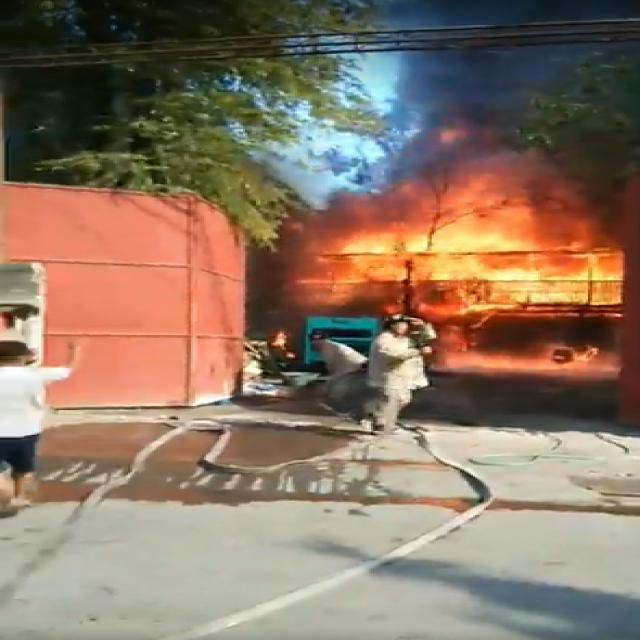Fire: (313, 202, 640, 308)
Smoke: (417, 50, 545, 204)
